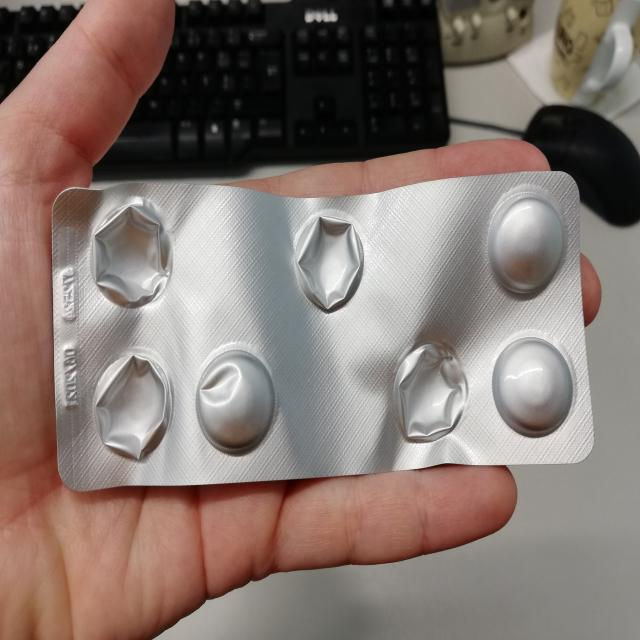Empty: (87, 196, 178, 311), (89, 350, 172, 463), (386, 336, 472, 444), (290, 209, 367, 316)
Pill: (484, 183, 566, 304), (193, 346, 275, 460), (492, 335, 578, 439)
